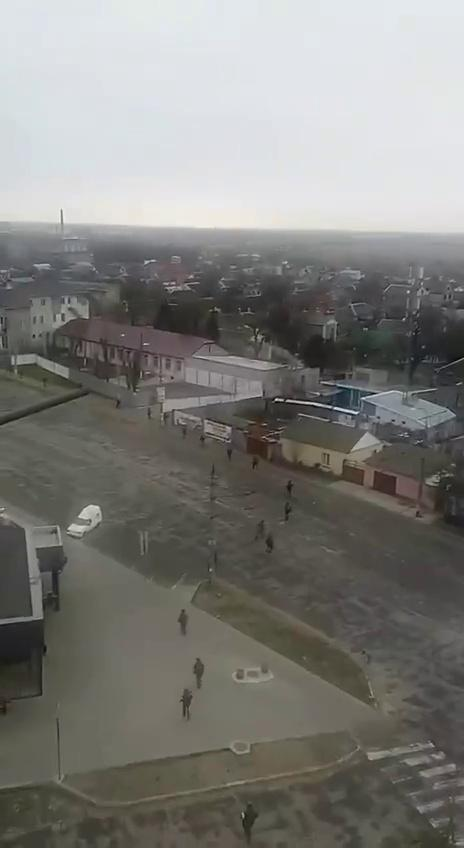car: (66, 504, 103, 538)
person: (240, 802, 259, 844), (178, 688, 193, 721), (192, 657, 204, 689), (177, 609, 188, 637), (265, 534, 274, 554), (179, 424, 188, 442), (284, 502, 292, 521), (113, 392, 121, 410), (286, 480, 294, 497), (18, 366, 24, 383), (147, 405, 152, 422), (252, 456, 258, 470), (227, 449, 232, 462), (200, 435, 205, 446)
